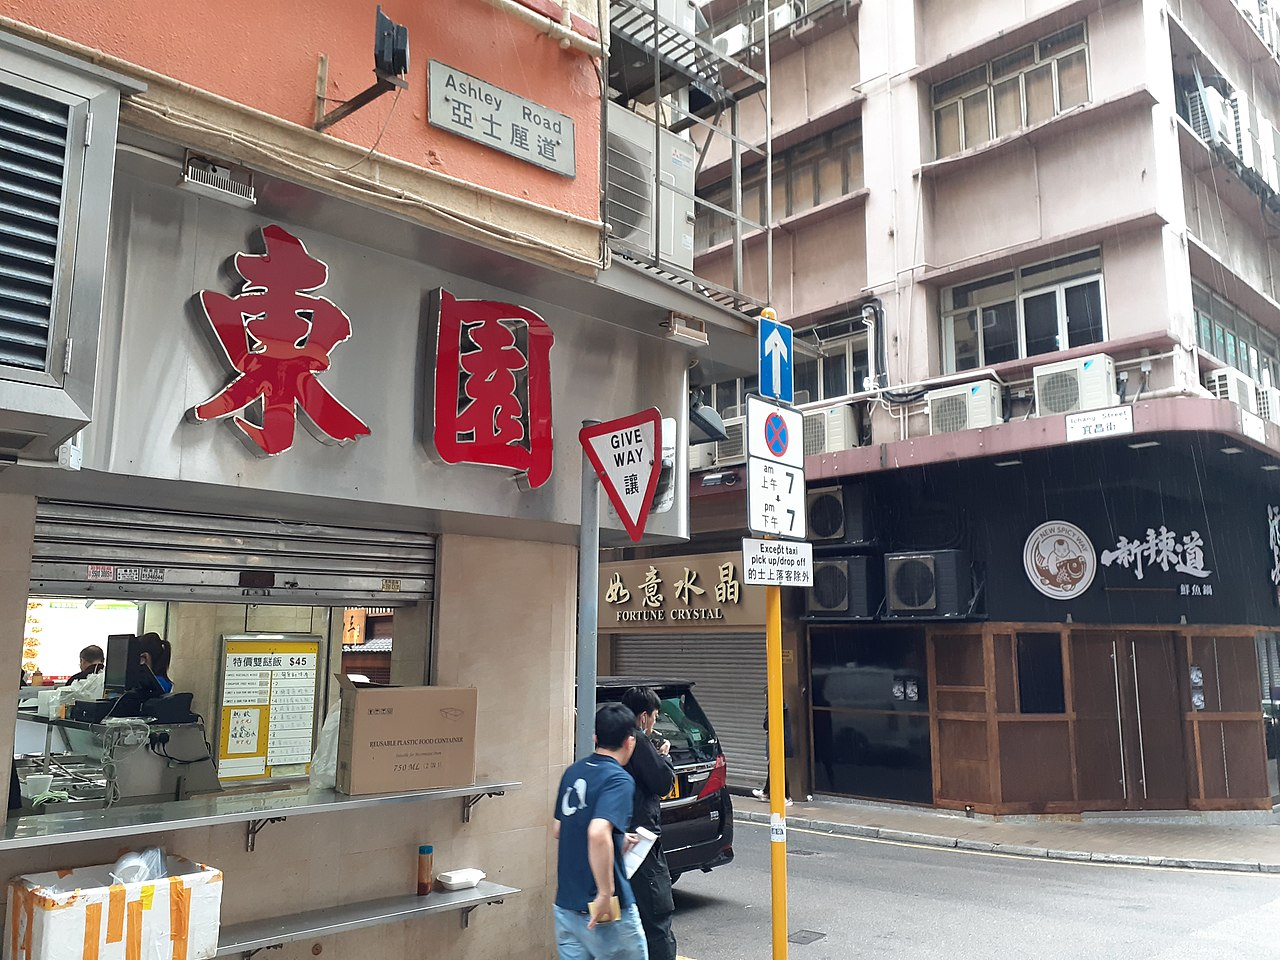Give Way: (572, 407, 677, 542)
One Way Traffic: (754, 318, 797, 402)
Start Of No Stopping: (750, 398, 805, 530)
